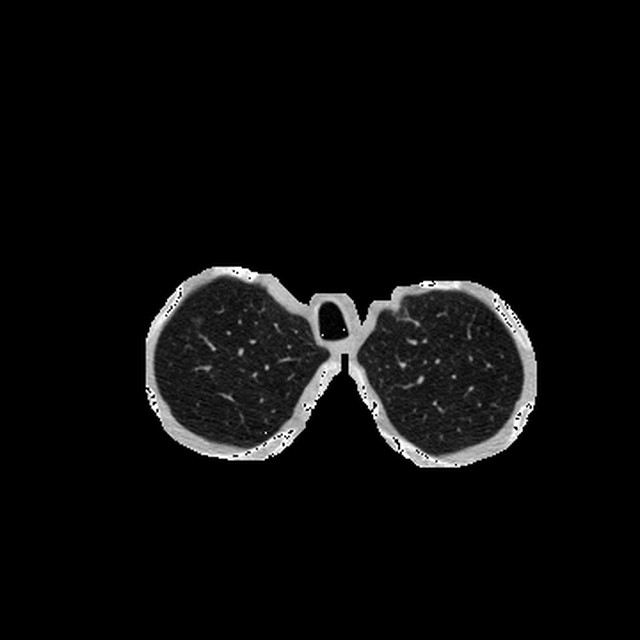PN: (194, 318, 201, 325)
